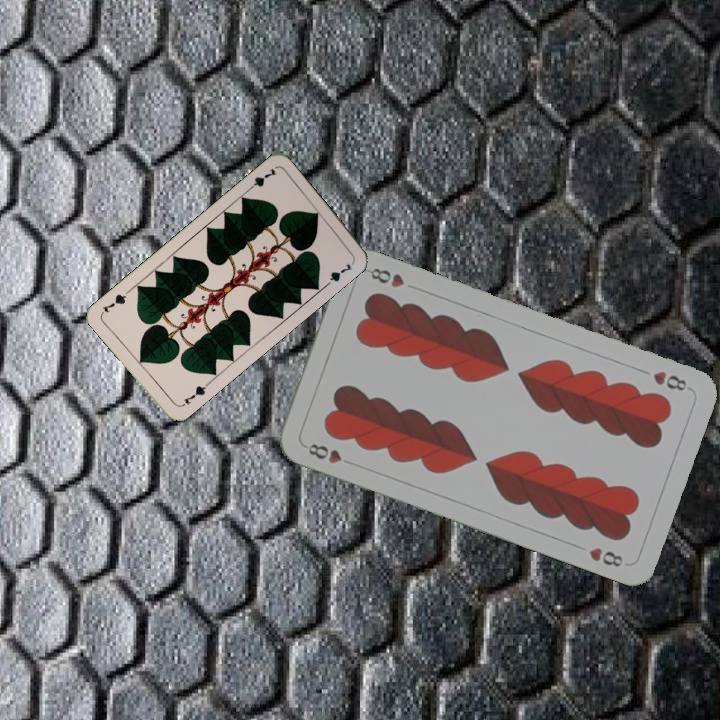G7: (243, 164, 279, 194), (177, 379, 211, 409)
H8: (649, 367, 693, 394), (304, 439, 344, 466)
